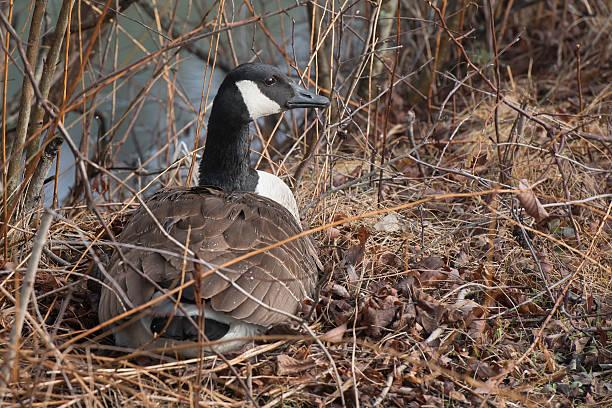Canadian-Goose: (97, 63, 330, 354)
